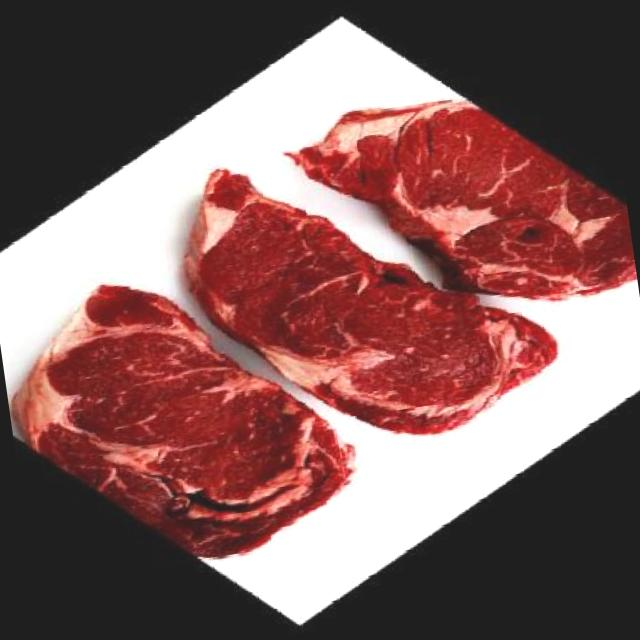beef: (76, 96, 590, 503), (0, 228, 417, 601), (242, 34, 640, 388)
